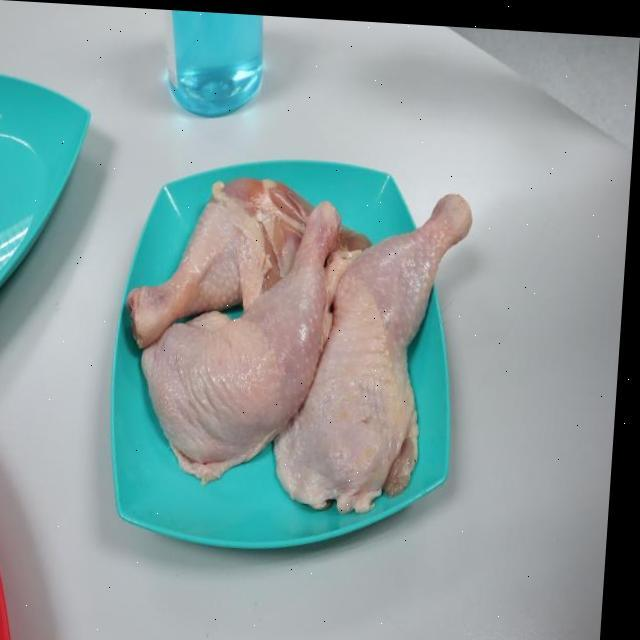quater: (328, 179, 504, 511), (166, 183, 344, 465), (118, 160, 346, 328)
